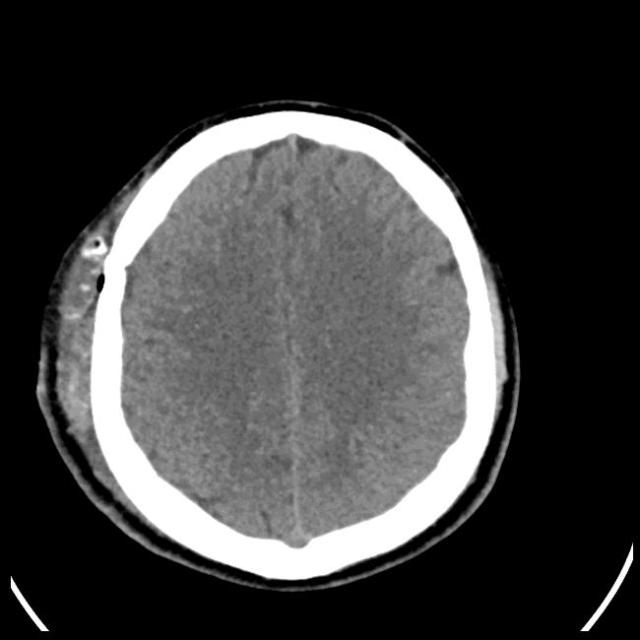lesion: (36, 99, 520, 590)
